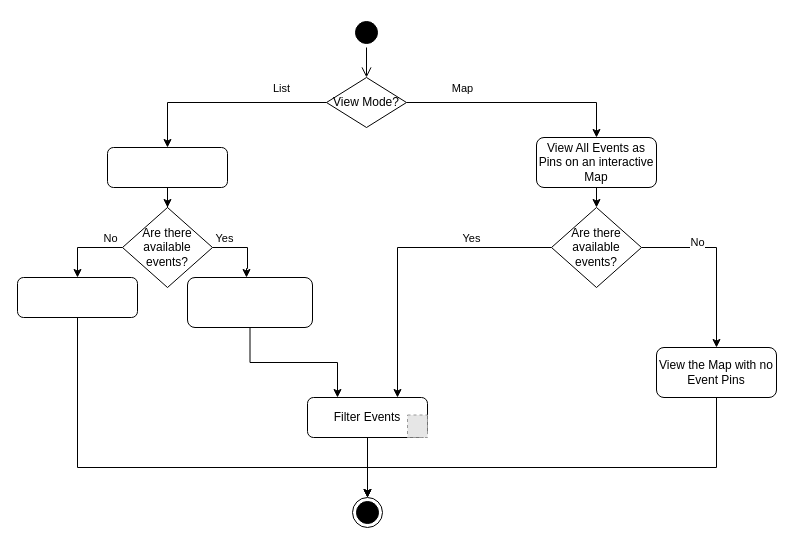
Image size: 794x545. Some labels were removed from this diagram. Grey dashed boxes stand in for pictures. Each missing label, with the centre of its shape:
View a List of Events sorted based on Recommendations: the point at 249,302
View All Events in a List: the point at 167,167
View Message "No Events Found.": the point at 77,297
